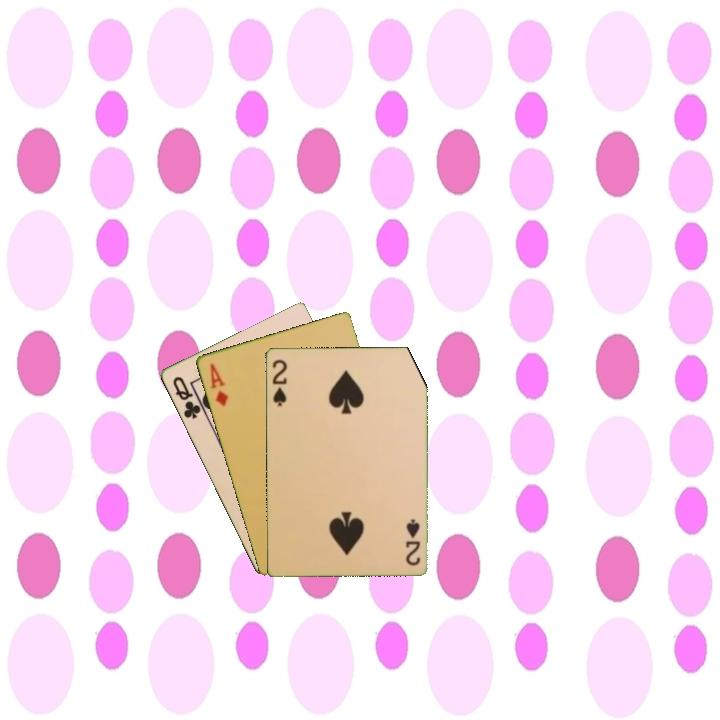2s: (268, 356, 289, 409), (402, 515, 423, 568)
Ad: (206, 360, 231, 409)
Qc: (169, 373, 207, 422)
